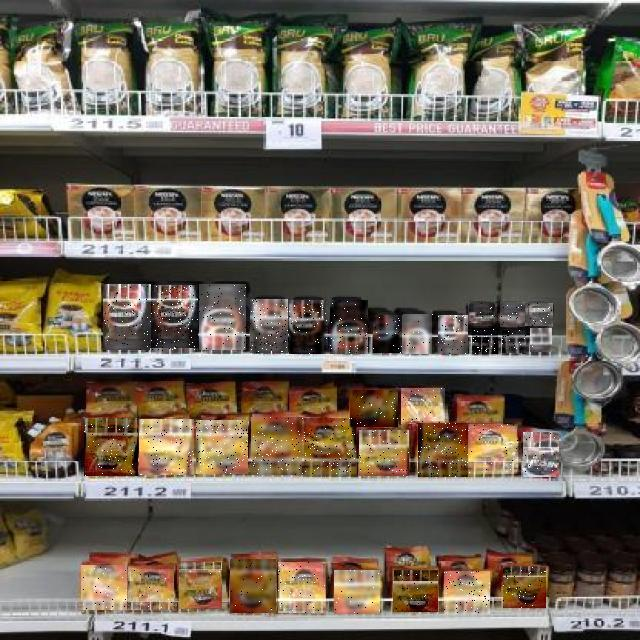Coffee: (103, 284, 151, 350), (150, 286, 198, 352), (140, 419, 196, 475), (84, 419, 138, 477), (199, 285, 246, 351), (252, 417, 304, 475), (304, 418, 356, 476), (197, 420, 249, 474), (418, 423, 468, 477), (468, 424, 518, 474), (230, 559, 276, 613), (279, 562, 327, 613), (359, 430, 409, 476), (180, 562, 226, 609), (81, 565, 127, 610), (250, 299, 288, 353), (330, 300, 368, 354), (290, 300, 328, 354), (128, 567, 174, 611), (335, 571, 381, 615), (444, 571, 490, 614), (393, 570, 438, 612), (503, 567, 546, 609), (350, 390, 398, 427), (402, 388, 448, 424), (523, 432, 559, 477), (404, 314, 434, 354), (438, 315, 468, 354), (374, 315, 404, 353), (473, 328, 499, 354), (468, 302, 495, 326), (525, 303, 553, 326), (500, 302, 525, 327), (502, 330, 526, 353), (530, 328, 552, 352)
